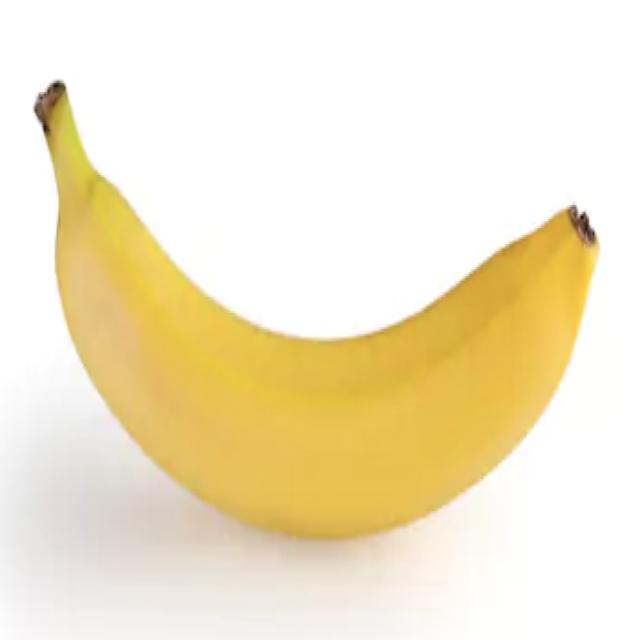fresh-banana: (32, 76, 600, 539)
